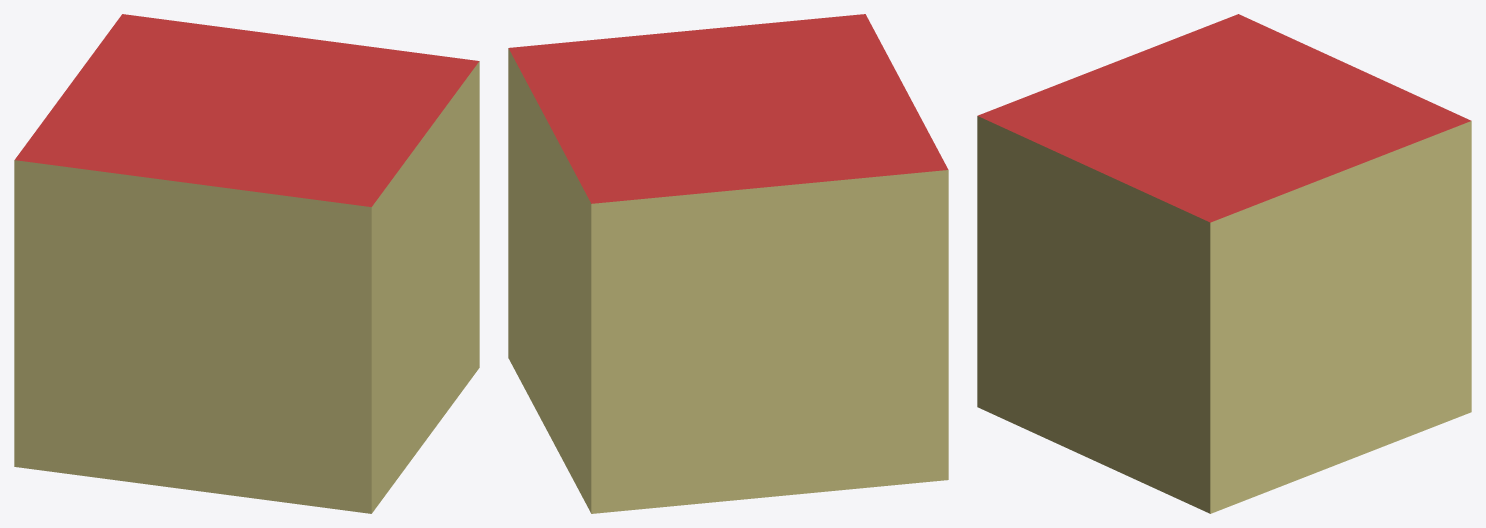
3 renders of one model, left to right at view 1: azimuth 30°, elevation 25°; view 2: azimuth 150°, elevation 25°; view 3: azimuth 270°, elevation 25°, orthographic. The views are drawn at different scales.
Visible parts, largest first — view 1: group_4, group_3; view 2: group_4, group_3; view 3: group_4, group_3.
Boxes of the visible parts, x1,y1,x2,y2 form: group_4: [14, 61, 479, 513]; group_3: [15, 14, 479, 206]; group_4: [508, 48, 948, 513]; group_3: [508, 14, 948, 203]; group_4: [977, 116, 1471, 513]; group_3: [977, 14, 1471, 222].
Size of the model in its own units: 9.48 by 9.49 by 6.17.
